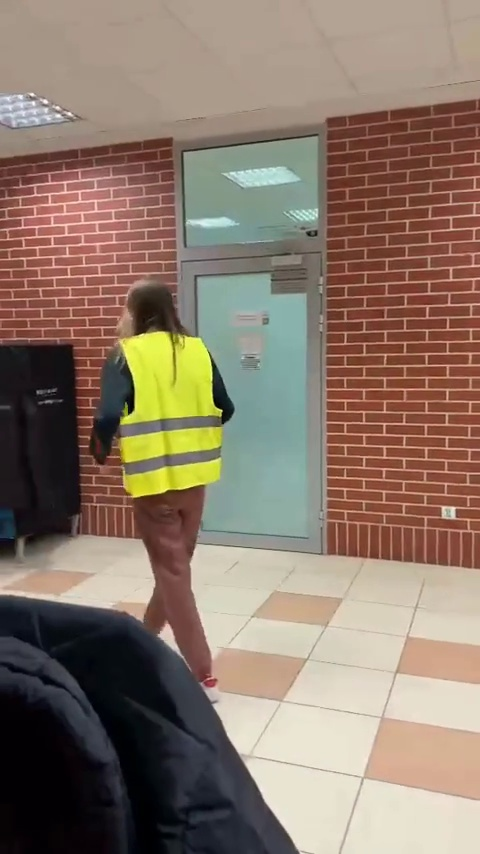vest: (85, 278, 243, 687)
